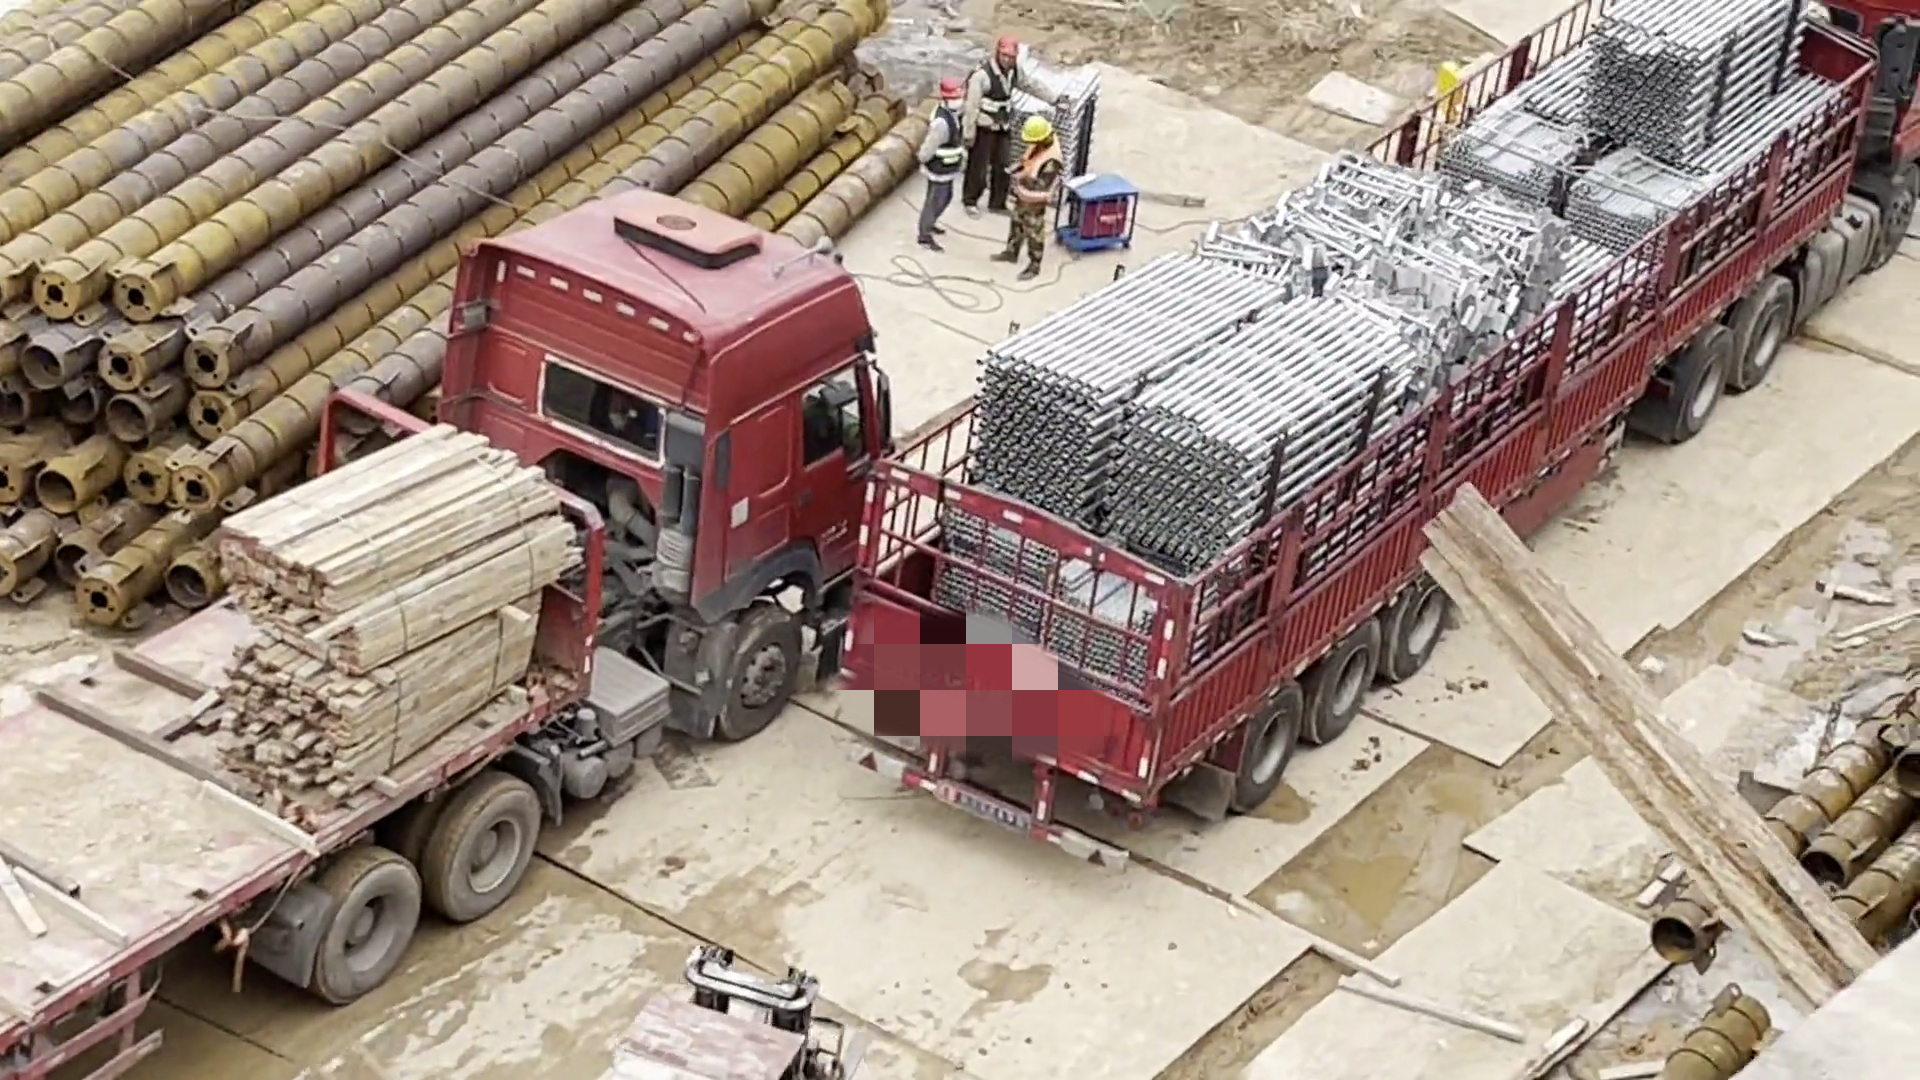helmet: (1021, 117, 1057, 142), (934, 72, 964, 101), (993, 31, 1023, 61)
person: (967, 30, 1029, 215), (917, 71, 966, 252), (1008, 114, 1061, 274)
scaffold: (1120, 280, 1424, 599), (991, 249, 1313, 521), (1599, 1, 1839, 158), (1441, 96, 1681, 248)
vest: (1015, 145, 1063, 215), (926, 106, 966, 175), (978, 65, 1014, 134)
wood: (212, 451, 566, 656), (232, 628, 547, 813)
